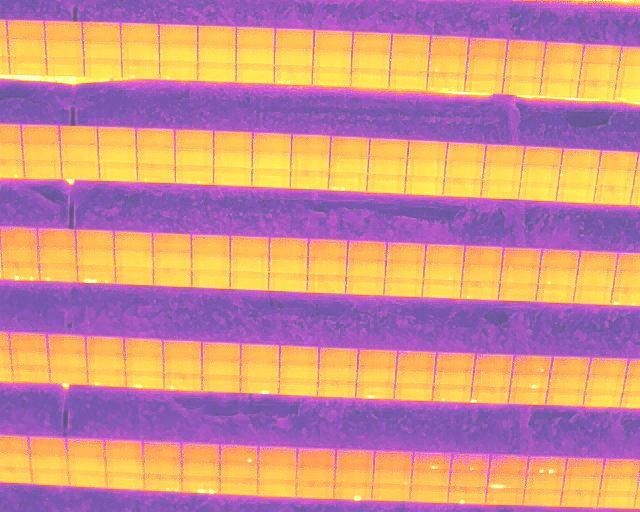Cell: (121, 59, 160, 79), (460, 281, 498, 300), (412, 453, 452, 471), (159, 61, 198, 79), (428, 55, 467, 73), (451, 453, 490, 471), (290, 171, 328, 189), (219, 445, 259, 462), (424, 263, 463, 280), (512, 356, 551, 373), (39, 264, 77, 281), (136, 165, 174, 182), (335, 483, 372, 500), (240, 377, 279, 393), (539, 268, 576, 284), (449, 488, 486, 504), (510, 374, 549, 389), (470, 387, 509, 402), (89, 370, 126, 385), (432, 387, 470, 401)
Cell-Multi: (427, 73, 466, 91), (275, 66, 313, 84), (175, 166, 213, 184), (527, 457, 567, 474), (182, 476, 221, 493), (1, 263, 40, 280), (329, 173, 366, 190), (164, 374, 202, 390), (145, 475, 182, 490)
No-Anomaly: (313, 49, 352, 70), (446, 142, 485, 163), (445, 160, 483, 181), (352, 50, 391, 70), (252, 133, 291, 153), (406, 175, 443, 196), (45, 21, 83, 41), (352, 68, 390, 88), (596, 169, 634, 189), (444, 178, 482, 198), (407, 159, 445, 179), (425, 244, 464, 263), (238, 27, 277, 46), (7, 20, 46, 39), (307, 274, 346, 293), (313, 66, 352, 85), (46, 58, 85, 77), (504, 59, 543, 78), (369, 139, 408, 158), (59, 127, 98, 146), (258, 446, 297, 465), (213, 132, 252, 151), (292, 135, 331, 154), (485, 144, 522, 164), (483, 180, 520, 200), (435, 353, 476, 371), (550, 357, 591, 375), (8, 39, 46, 58), (77, 230, 115, 249), (160, 25, 198, 44), (231, 271, 269, 290), (192, 269, 230, 288), (236, 64, 274, 83), (581, 63, 619, 82), (160, 43, 198, 62), (389, 71, 427, 90), (38, 229, 76, 248), (521, 164, 559, 183), (484, 163, 522, 182), (98, 128, 136, 147), (175, 149, 213, 168), (144, 440, 182, 459), (589, 357, 627, 376), (61, 144, 99, 163), (524, 147, 562, 166), (67, 438, 105, 457), (469, 38, 507, 57), (430, 36, 468, 55), (114, 249, 154, 267), (352, 32, 392, 50), (251, 152, 291, 170), (274, 30, 314, 48), (541, 249, 578, 268), (466, 74, 503, 93), (347, 276, 384, 295), (391, 53, 428, 72), (392, 35, 429, 54), (408, 140, 445, 159), (561, 149, 598, 168), (307, 256, 346, 274), (578, 81, 617, 99), (120, 24, 159, 42), (86, 336, 125, 354), (197, 45, 236, 63), (498, 283, 537, 301), (384, 278, 423, 296), (197, 63, 236, 81), (545, 43, 584, 61), (230, 237, 269, 255), (46, 40, 85, 58), (198, 26, 237, 44), (423, 280, 462, 298), (557, 184, 596, 202), (559, 166, 598, 184), (21, 125, 60, 143), (251, 170, 290, 188), (22, 143, 61, 161), (473, 355, 514, 372), (504, 77, 540, 96), (236, 46, 274, 64), (258, 463, 296, 481), (83, 23, 119, 42), (48, 334, 86, 352), (116, 266, 154, 284), (84, 59, 122, 77), (584, 45, 620, 64), (373, 483, 411, 501), (358, 350, 396, 368), (125, 339, 163, 357), (269, 274, 307, 292), (347, 257, 385, 275), (154, 250, 192, 268), (192, 252, 230, 270), (520, 183, 558, 201), (115, 230, 153, 248), (214, 168, 252, 186), (367, 175, 405, 193), (331, 138, 369, 156), (175, 131, 213, 149), (98, 145, 136, 163), (314, 31, 352, 49), (292, 154, 330, 172), (599, 151, 637, 169), (213, 151, 251, 169), (330, 155, 368, 173), (410, 485, 450, 502), (463, 246, 503, 263), (583, 391, 623, 408), (508, 40, 545, 58), (543, 61, 580, 79), (84, 41, 121, 59), (10, 334, 47, 352), (463, 263, 500, 281), (182, 442, 219, 460), (62, 161, 99, 179), (386, 243, 425, 260), (576, 269, 615, 286), (500, 266, 539, 283), (385, 261, 424, 278), (1, 246, 40, 263), (39, 248, 78, 265), (308, 239, 347, 256), (397, 352, 436, 369), (23, 161, 62, 178), (136, 148, 175, 165), (565, 458, 604, 475), (574, 286, 610, 304), (595, 185, 631, 203), (603, 458, 639, 476), (270, 256, 308, 273), (192, 235, 230, 252), (269, 239, 307, 256), (121, 43, 159, 60), (163, 342, 201, 359), (503, 248, 541, 265), (579, 252, 617, 269), (467, 57, 505, 74), (153, 232, 191, 249), (275, 49, 313, 66), (202, 344, 240, 361), (154, 268, 192, 285), (0, 228, 38, 245), (137, 131, 175, 148), (375, 452, 413, 469), (220, 462, 258, 479), (394, 384, 432, 401), (368, 158, 406, 175), (99, 164, 137, 181), (521, 490, 561, 506), (585, 376, 625, 392), (67, 457, 107, 473), (540, 80, 577, 97), (33, 469, 70, 486), (537, 285, 574, 302), (9, 57, 46, 74), (220, 478, 257, 495), (106, 439, 143, 456), (347, 241, 386, 257), (319, 349, 358, 365), (240, 346, 279, 362), (279, 347, 318, 363), (317, 382, 356, 398), (87, 354, 126, 370), (297, 449, 336, 465), (181, 461, 220, 477), (318, 366, 357, 382), (563, 474, 601, 490), (486, 488, 524, 504), (525, 474, 563, 490), (297, 465, 335, 481), (600, 476, 638, 492), (560, 491, 598, 507), (412, 470, 450, 486), (547, 390, 585, 406), (508, 389, 546, 405), (202, 360, 240, 376), (203, 376, 241, 392), (164, 358, 202, 374), (144, 459, 182, 475), (337, 452, 375, 468), (279, 364, 317, 380), (472, 372, 512, 387), (298, 482, 335, 498), (451, 471, 488, 487), (11, 352, 48, 368), (107, 457, 144, 473), (373, 470, 412, 485), (258, 481, 297, 496), (241, 362, 280, 377), (434, 372, 473, 387), (30, 437, 66, 453), (231, 256, 269, 271), (77, 249, 115, 264), (107, 474, 145, 489), (336, 469, 374, 484), (489, 455, 527, 470), (12, 368, 50, 383), (548, 375, 588, 389), (395, 371, 435, 385), (70, 473, 107, 488), (49, 353, 86, 368), (51, 369, 88, 384), (30, 454, 67, 469), (598, 492, 637, 506), (126, 358, 164, 372), (357, 368, 395, 382), (280, 380, 317, 394), (0, 436, 30, 453), (0, 469, 32, 484), (0, 453, 31, 468)
Unclassified: (78, 265, 115, 283), (488, 471, 525, 488), (355, 383, 394, 399), (126, 373, 163, 389)
